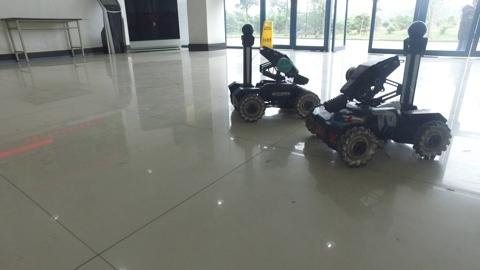chariot: (301, 16, 453, 167), (223, 21, 324, 124)
